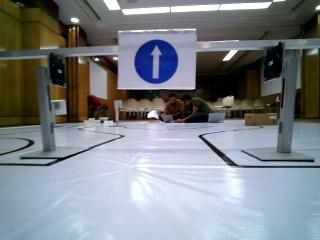straight: (119, 35, 196, 86)
